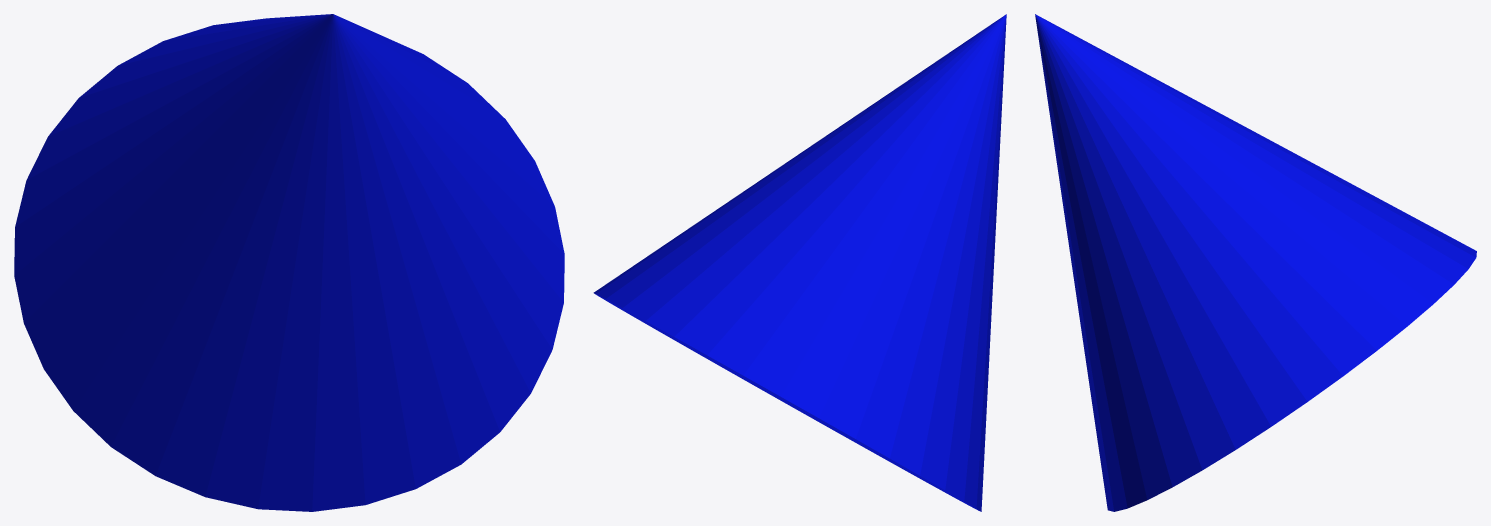
The picture shows the model from 3 angles, left to right: view 1: azimuth 30°, elevation 25°; view 2: azimuth 150°, elevation 25°; view 3: azimuth 270°, elevation 25°; orthographic projection. The views are drawn at different scales.
Parts seen in each view (by area): view 1: Cone; view 2: Cone; view 3: Cone.
Boxes of the visible parts, bbox=[...] form: Cone: bbox=[14, 14, 564, 511]; Cone: bbox=[593, 14, 1006, 511]; Cone: bbox=[1035, 14, 1476, 511].
Size of the model in its own units: 388 by 438 by 392.
